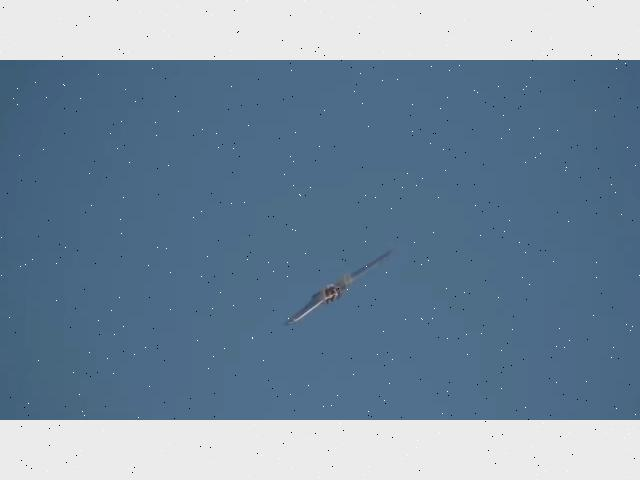Anti-Drone: (286, 250, 394, 322)
